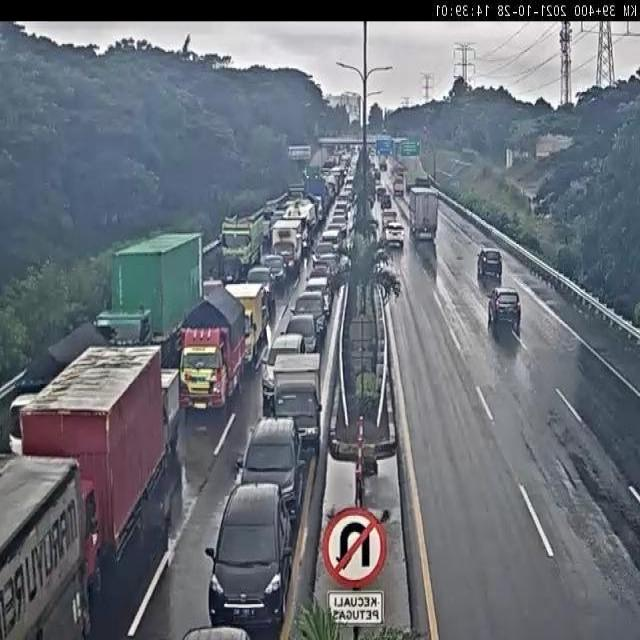Car: (204, 477, 287, 620), (235, 421, 299, 513), (263, 334, 304, 391), (486, 287, 529, 326), (472, 246, 510, 282), (295, 292, 326, 331), (287, 312, 317, 352), (303, 278, 335, 312), (259, 252, 288, 288), (248, 265, 273, 301), (383, 221, 406, 253), (376, 184, 390, 204), (380, 194, 395, 212)
Truck: (26, 350, 166, 547), (0, 457, 86, 640), (7, 324, 96, 446), (109, 235, 207, 337), (183, 295, 247, 407), (266, 354, 320, 443), (233, 281, 269, 365), (270, 202, 315, 268), (157, 362, 187, 446), (223, 212, 265, 264), (408, 187, 441, 240), (393, 177, 407, 195)
